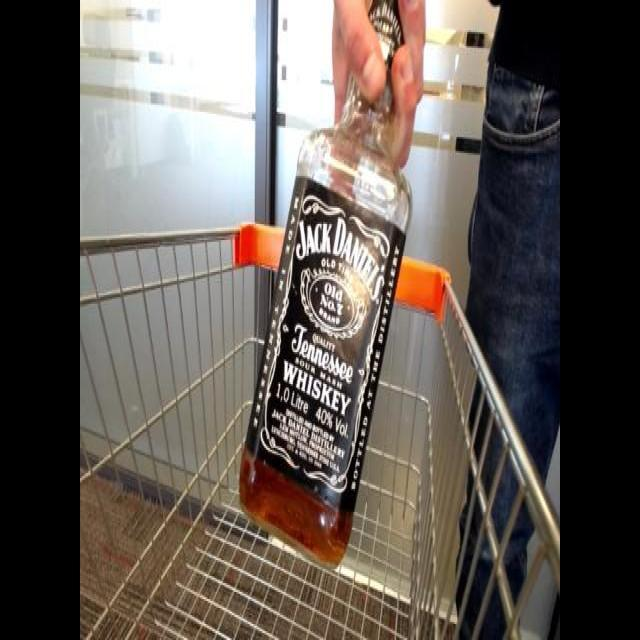Jack Daniels: (219, 0, 433, 581)
